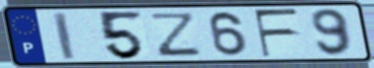5: (96, 10, 146, 61)
6: (207, 9, 250, 58)
9: (309, 7, 355, 58)
F: (252, 7, 302, 59)
I: (50, 10, 78, 61)
Z: (151, 11, 204, 58)
